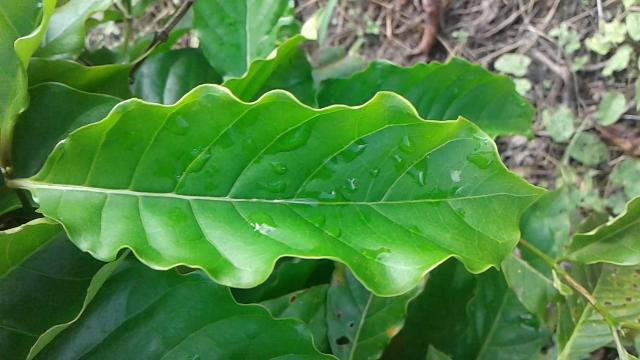healthy: (31, 84, 546, 292)
